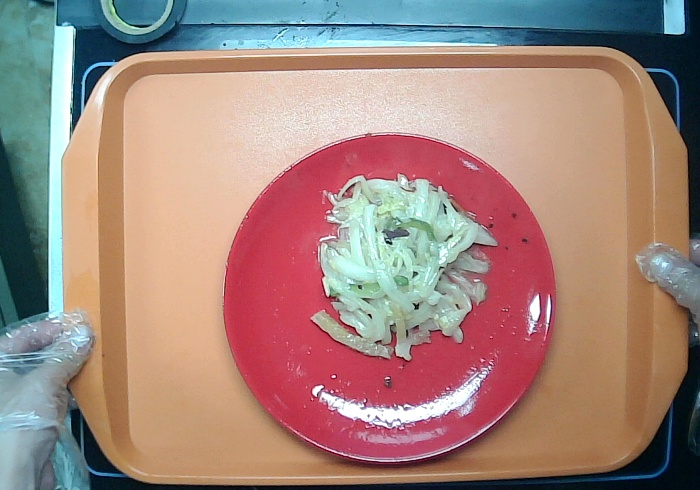HZYJPL-Hong_Se_Yuan_Pan: (219, 129, 554, 465)
